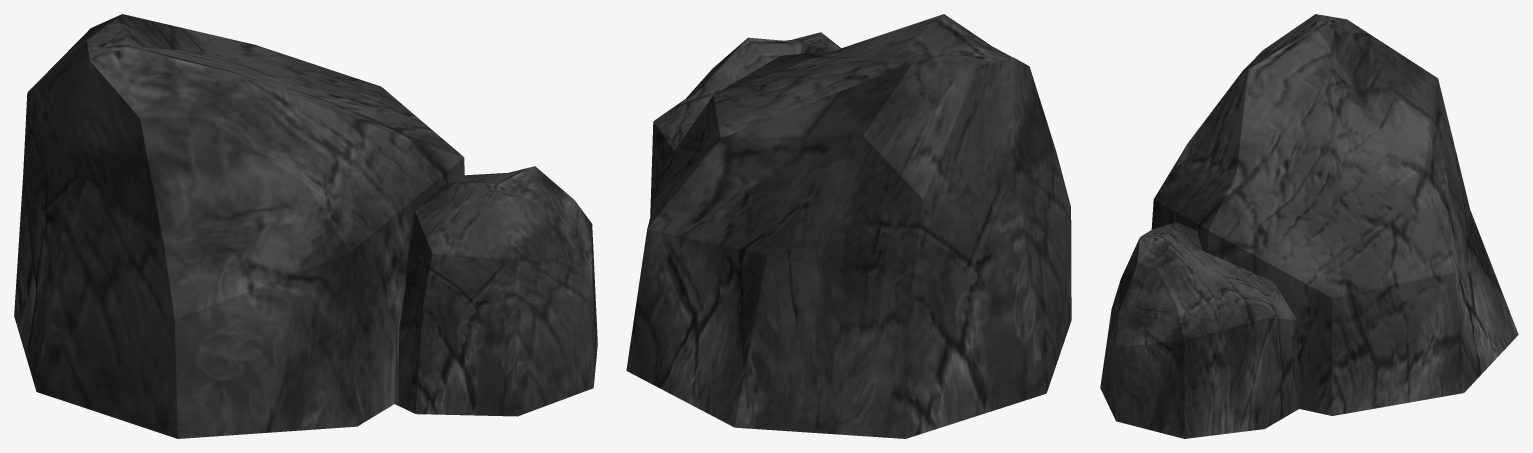
File: rock2.fbx
3 views of the same model, side by side, from view 1: azimuth 30°, elevation 25°; view 2: azimuth 150°, elevation 25°; view 3: azimuth 270°, elevation 25° (orthographic). The views are drawn at different scales.
Parts seen in each view (by area): view 1: pSphere16; view 2: pSphere16; view 3: pSphere16.
Boxes of the visible parts, box(x1,y1,x2,y2) form: pSphere16: box(14, 14, 597, 438); pSphere16: box(626, 14, 1071, 438); pSphere16: box(1100, 14, 1518, 438).
Bounding box in the file's own units: 22.65 × 15.35 × 22.02.
